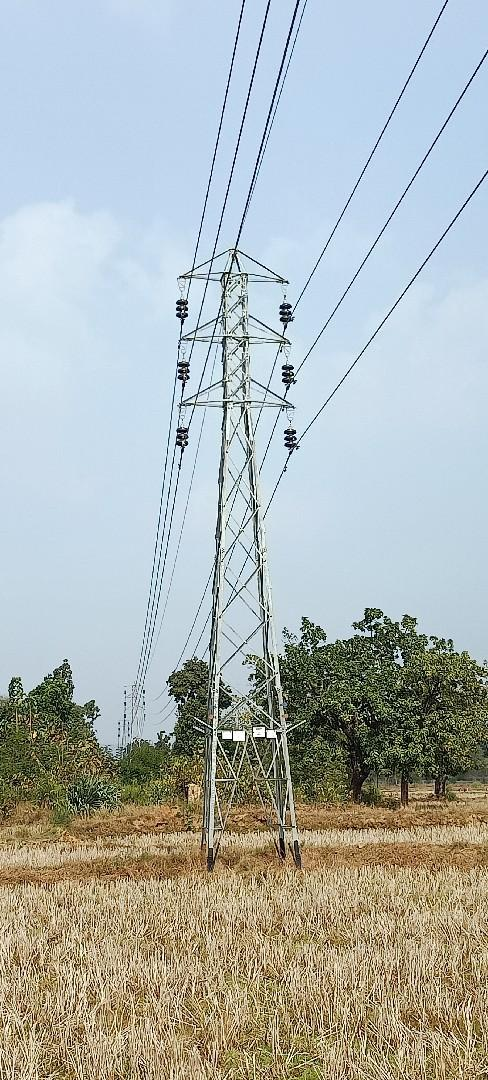GSM Antenna: (172, 243, 311, 821)
